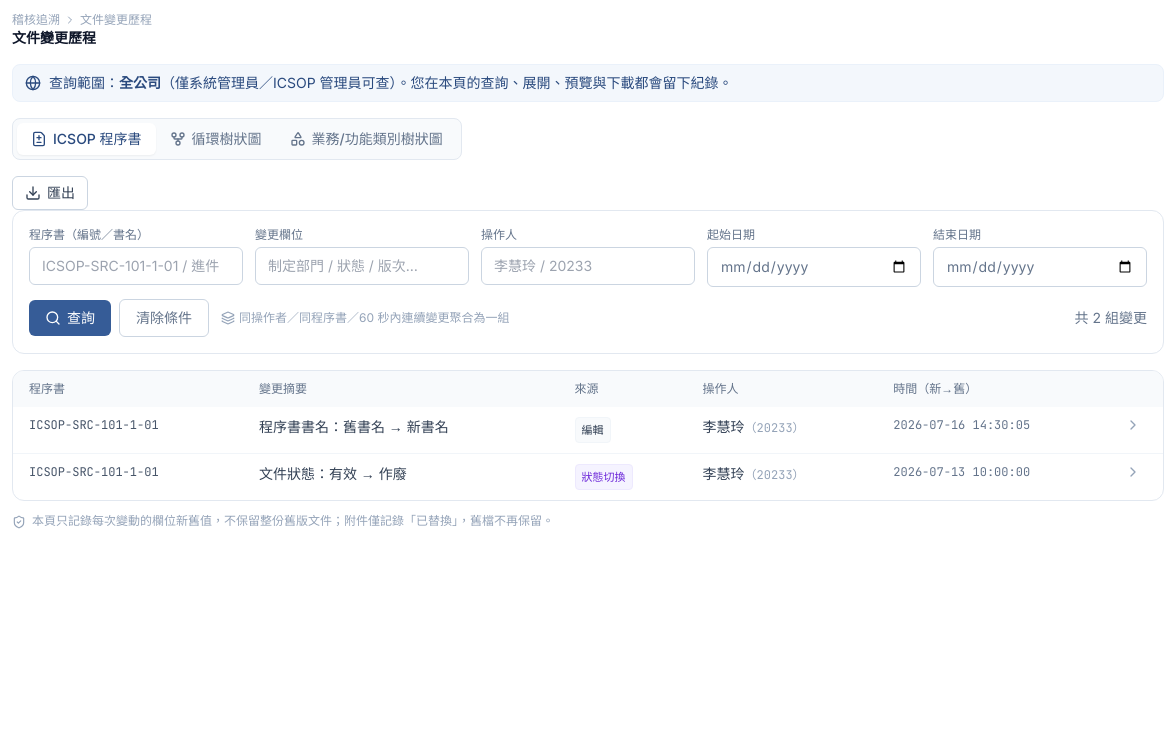
it: ChangeHistoryPage — F037/F038 › 切換至循環樹狀圖 tab → 渲染結構變更清單
Click the button "循環樹狀圖": (216, 139) [156,123,276,155]
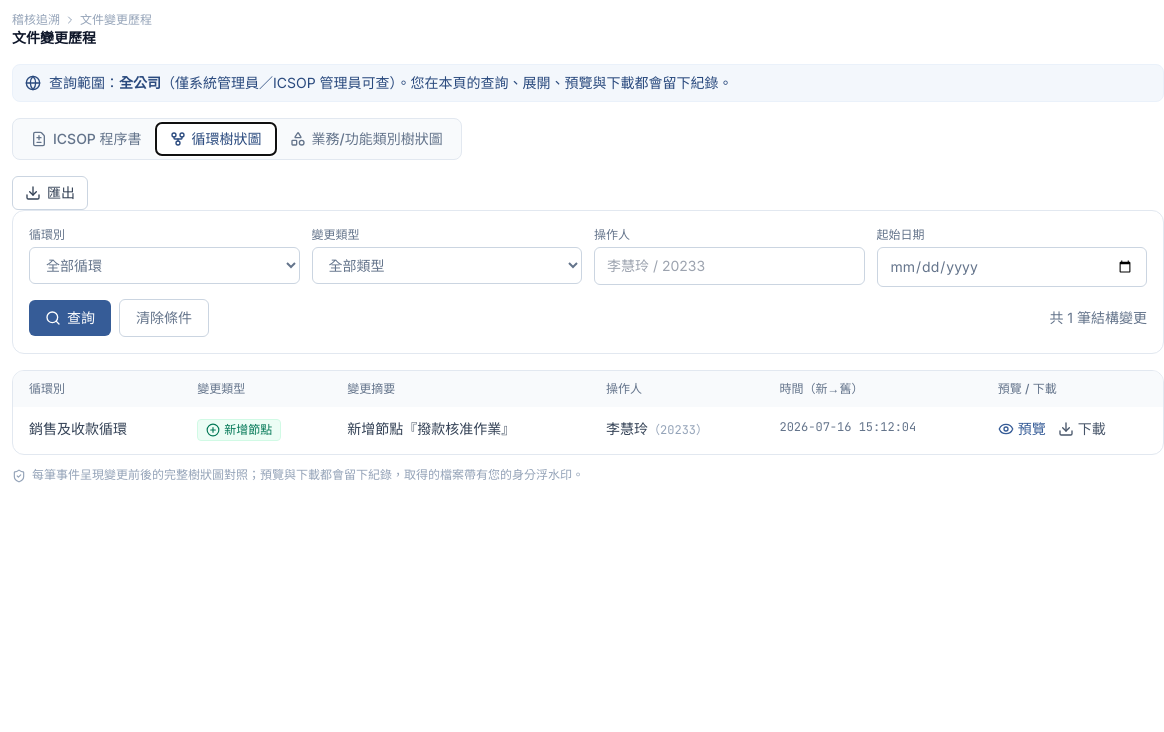
Result: the text "新增節點『撥款核准作業』" is shown at [331,407,590,454]
